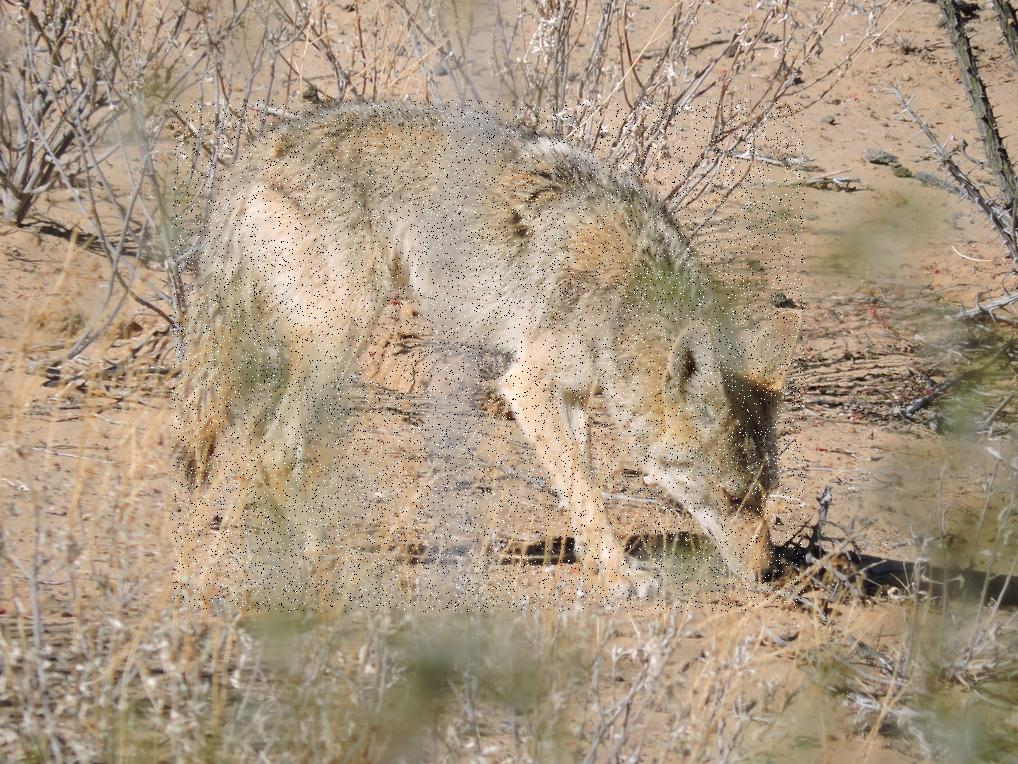Coyote: (172, 100, 805, 612)
